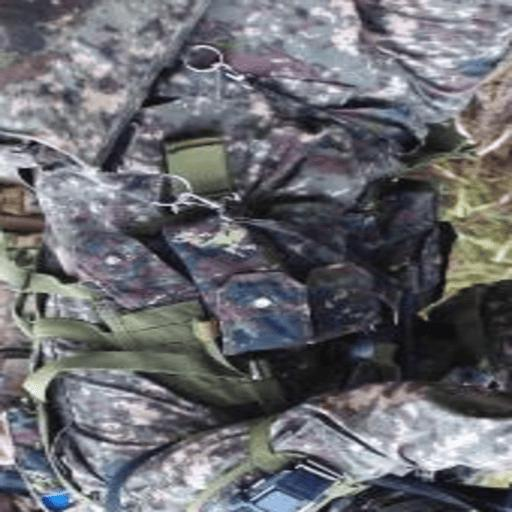korea army: (0, 1, 507, 506)
